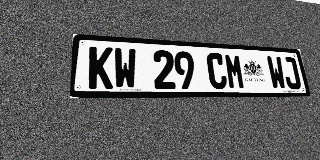2: (153, 50, 176, 89)
9: (174, 51, 196, 89)
C: (206, 53, 228, 89)
J: (281, 57, 302, 89)
K: (88, 46, 113, 89)
M: (224, 54, 246, 89)
W: (114, 48, 137, 89), (266, 56, 287, 89)
